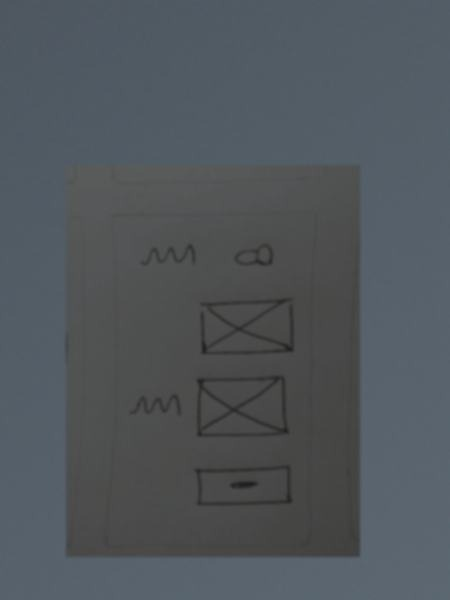button: (190, 462, 299, 515)
image: (191, 371, 293, 440), (194, 294, 297, 362)
switch: (227, 240, 278, 273)
text: (126, 392, 186, 426), (135, 239, 201, 269)
